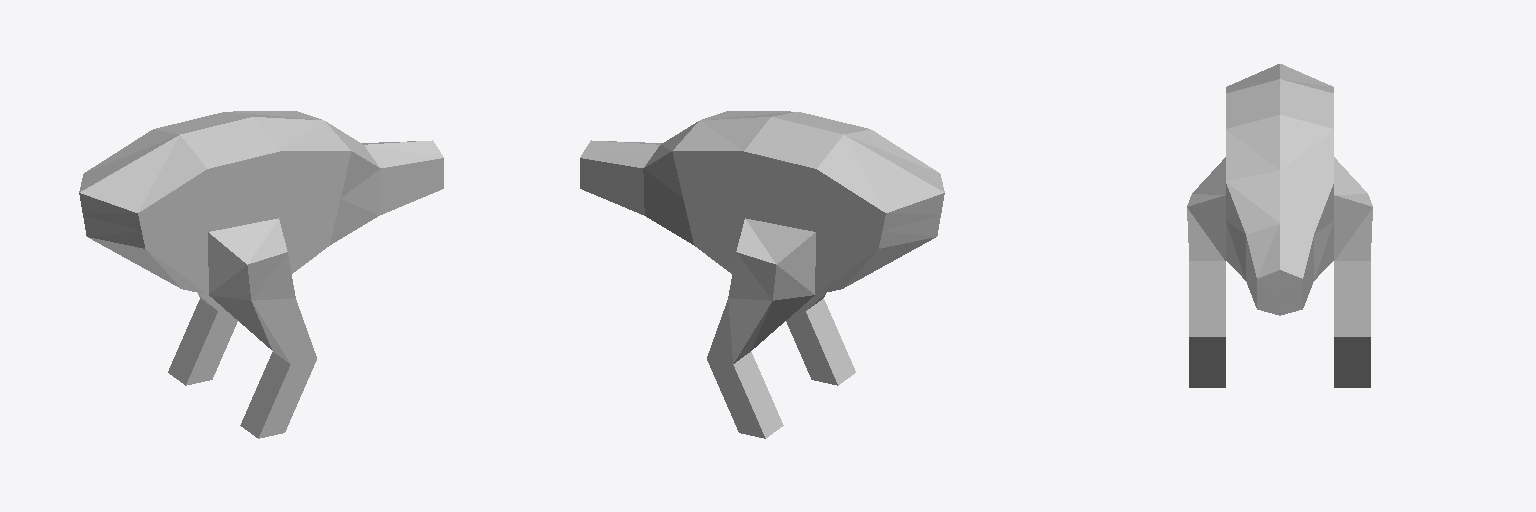
File: runner.obj
3 renders of one model, left to right at view 1: azimuth 30°, elevation 25°; view 2: azimuth 150°, elevation 25°; view 3: azimuth 270°, elevation 25°, orthographic.
Parts seen in each view (by area): view 1: Cube_Cube.001; view 2: Cube_Cube.001; view 3: Cube_Cube.001.
Part boxes in pixels (x1,y1,x2,y2): Cube_Cube.001: (79,111,443,438); Cube_Cube.001: (580,111,944,438); Cube_Cube.001: (1187,64,1372,387).
Size of the model in its own units: 4.86 by 3.68 by 2.22.